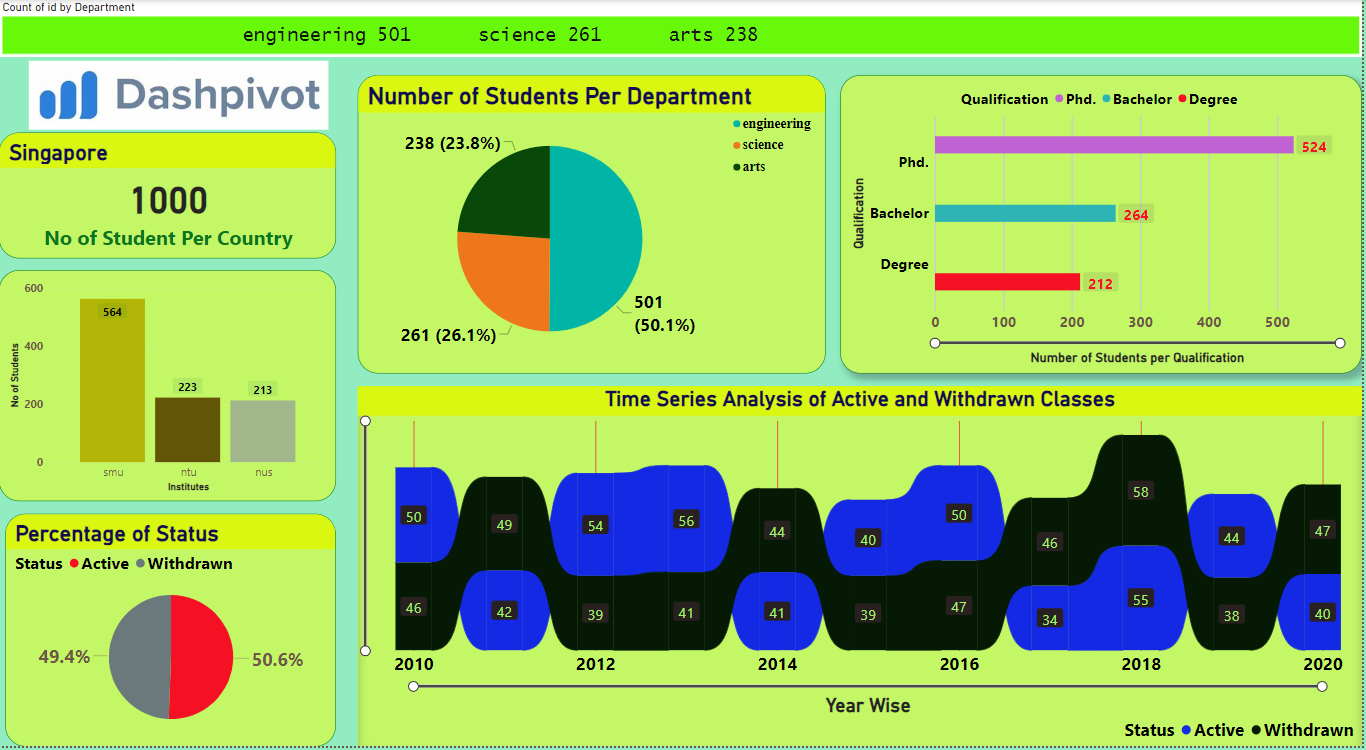

The dashboard page shown, as its layout file describes it:
{"tool":"powerbi","page":{"name":"Page 1","canvas":[2010,1100],"ordinal":0},"visuals":[{"type":"card","fields":{"Values":["CountNonNull(data.id)"]},"box":[0,195.3,496.9,185.4],"z":0},{"type":"columnChart","fields":{"Category":["data.Institute"],"Y":["Count(data.id)"]},"box":[0,398,496.9,341.1],"z":1000},{"type":"pieChart","title":"Number of Students Per Department","fields":{"Category":["data.Department"],"Y":["Count(data.id)"]},"box":[529,111.2,689.7,440],"z":2000},{"type":"clusteredBarChart","fields":{"Category":["data.Qualification"],"Y":["Count(data.id)"],"Series":["data.Qualification"]},"box":[1240.9,111.2,768.8,440],"z":3000},{"type":"pieChart","title":"Percentage of Status","fields":{"Y":["CountNonNull(data.id)"],"Category":["data.Status"]},"box":[9.9,756.4,487,343.6],"z":3001},{"type":"ribbonChart","title":"Time Series Analysis of Active and Withdrawn Classes","fields":{"Category":["data.Year"],"Y":["CountNonNull(data.Status)"],"Series":["data.Status"]},"box":[529,568.5,1480.7,531.5],"z":3002},{"type":"ScrollingTextVisual1448795304508","fields":{"Category":["data.Department"],"Measure Absolute":["CountNonNull(data.id)"]},"box":[0,0,2009.7,84],"z":3003},{"type":"image","box":[0,84,529,111.2],"z":3004}]}

Visuals, with their boxes in screenshot pixels (x1, y1, x2, y2), scaled from the page's 2010x1100 canvas onto the 1366x750 screenshot:
card - CountNonNull(data.id): (0, 133, 338, 260)
columnChart - data.Institute x Count(data.id): (0, 271, 338, 504)
"Number of Students Per Department" pieChart: (360, 76, 828, 376)
clusteredBarChart - data.Qualification x Count(data.id): (843, 76, 1365, 376)
"Percentage of Status" pieChart: (7, 516, 338, 749)
"Time Series Analysis of Active and Withdrawn Classes" ribbonChart: (360, 388, 1365, 749)
ScrollingTextVisual1448795304508 - data.Department x CountNonNull(data.id): (0, 0, 1365, 57)
image: (0, 57, 360, 133)
